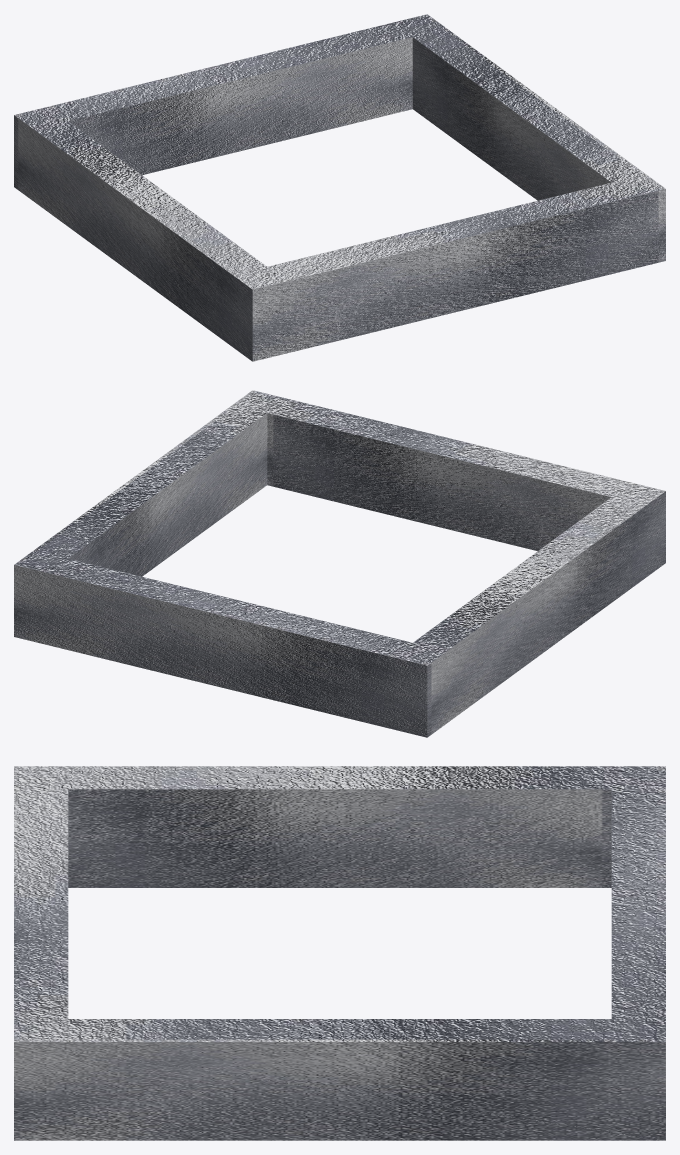
File: SilverFrame.glb
3 views of the same model, one above another, from view 1: azimuth 30°, elevation 25°; view 2: azimuth 150°, elevation 25°; view 3: azimuth 270°, elevation 25° (orthographic). The views are drawn at different scales.
Visible parts, largest first — view 1: Frame_1; view 2: Frame_1; view 3: Frame_1.
Part boxes in pixels (x1=…): Frame_1: x1=14, y1=14, x2=665, y2=361; Frame_1: x1=14, y1=390, x2=665, y2=737; Frame_1: x1=14, y1=766, x2=665, y2=1140.
Size of the model in its own units: 2.4 by 0.4 by 2.4.
1 material, 1 textured.
